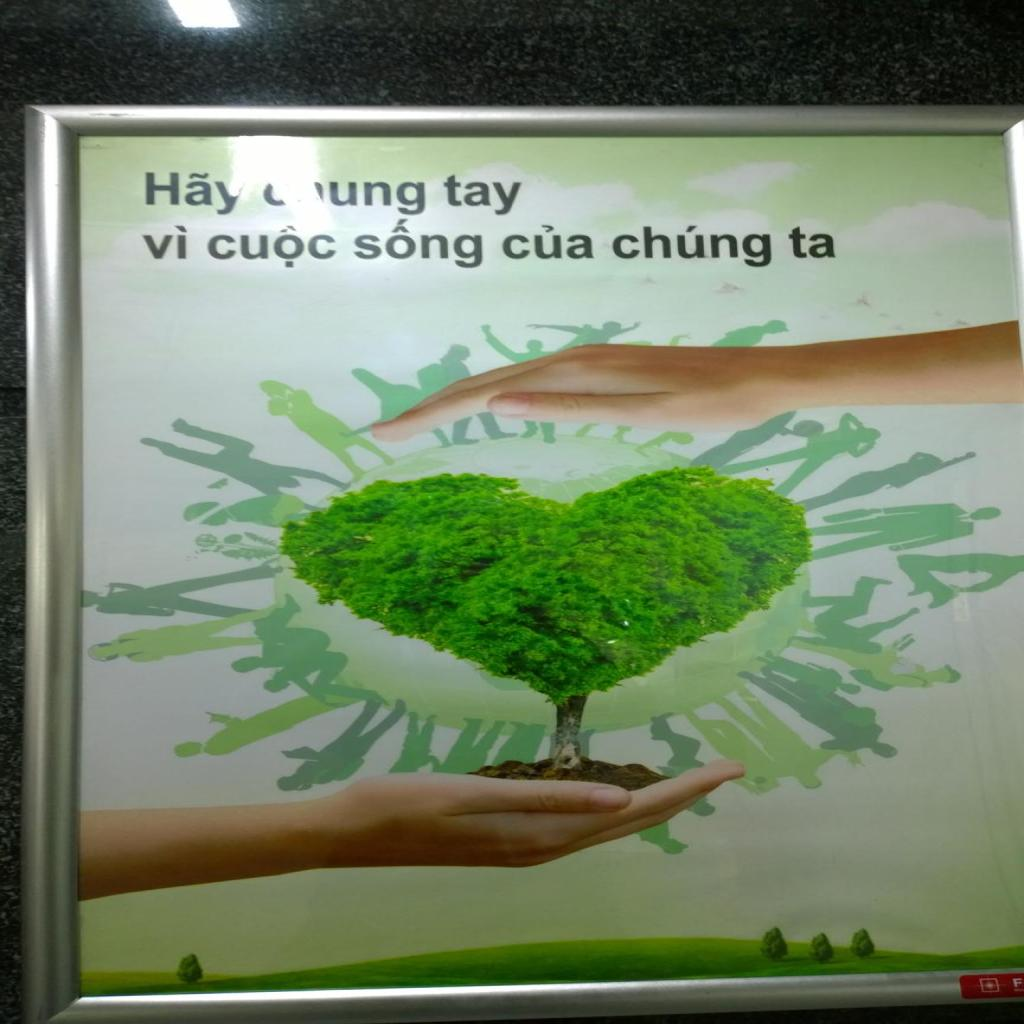text: (606, 216, 776, 270), (347, 217, 486, 271), (198, 224, 339, 269), (134, 165, 250, 214), (496, 222, 600, 268), (327, 175, 432, 217), (442, 169, 529, 217), (132, 220, 196, 263), (780, 220, 843, 263)
